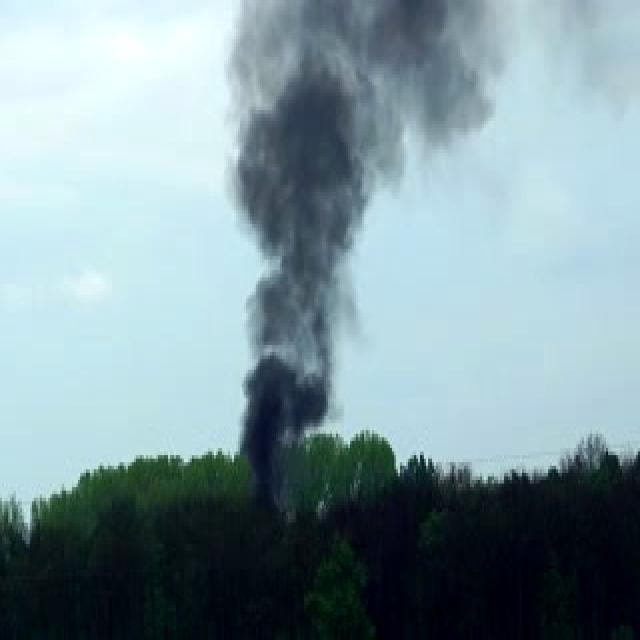Smoke: (216, 0, 416, 491)
